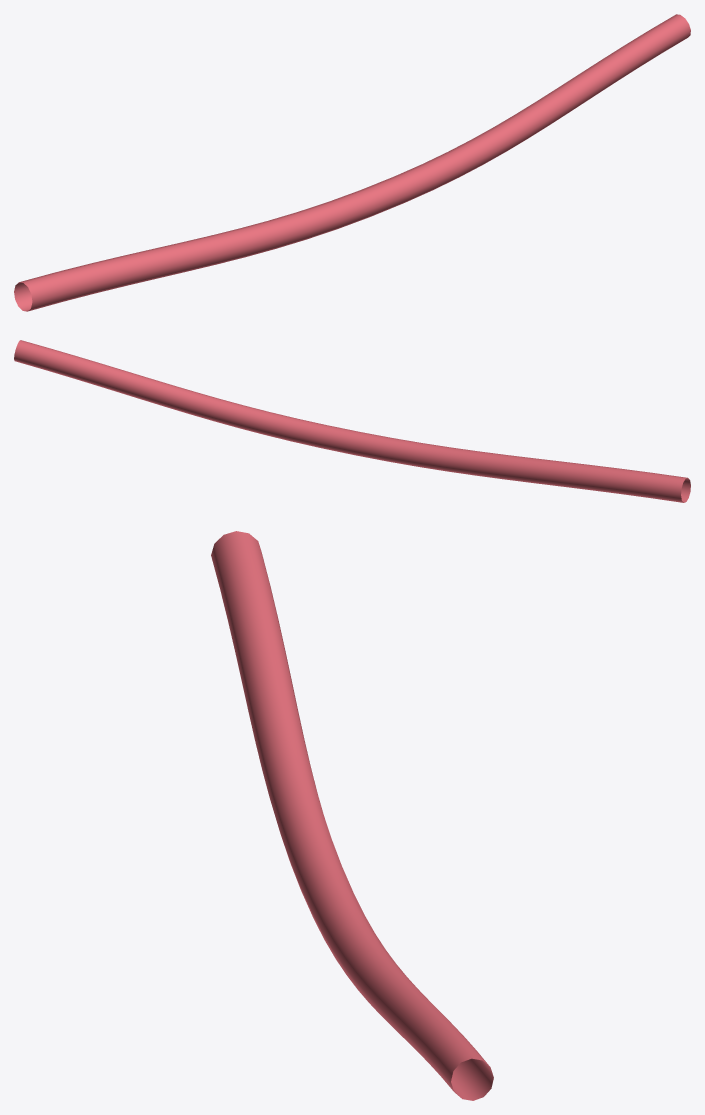
The picture shows the model from 3 angles, top to bottom: view 1: azimuth 30°, elevation 25°; view 2: azimuth 150°, elevation 25°; view 3: azimuth 270°, elevation 25°; orthographic projection. The views are drawn at different scales.
Parts seen in each view (by area): view 1: ZA_638ac8aaa577e1fb; view 2: ZA_638ac8aaa577e1fb; view 3: ZA_638ac8aaa577e1fb.
Boxes of the visible parts, x1=… form: ZA_638ac8aaa577e1fb: x1=14, y1=14, x2=690, y2=311; ZA_638ac8aaa577e1fb: x1=14, y1=340, x2=690, y2=502; ZA_638ac8aaa577e1fb: x1=211, y1=531, x2=493, y2=1100.
Size of the model in its own units: 0.0273 by 0.00292 by 0.00545.
